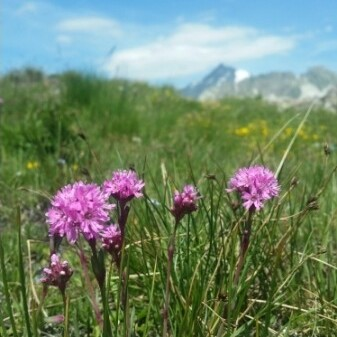obstacle: (20, 153, 284, 331)
